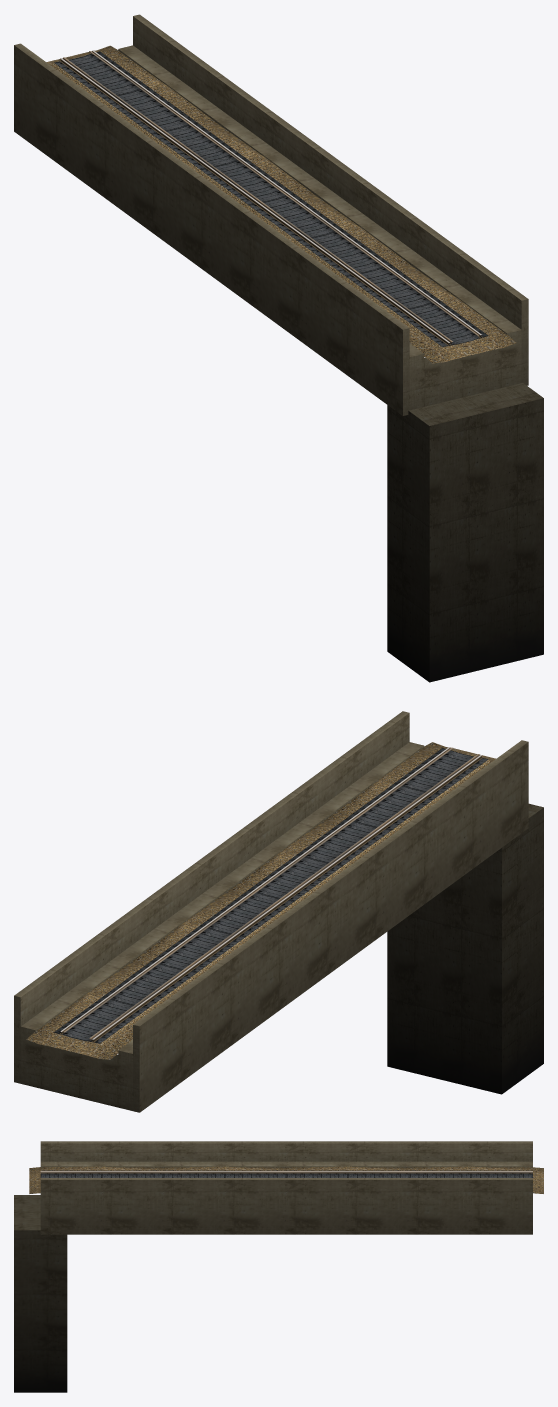
File: HK_1RAIL_KOUKA100.glb
3 renders of one model, top to bottom at view 1: azimuth 30°, elevation 25°; view 2: azimuth 150°, elevation 25°; view 3: azimuth 270°, elevation 25°, orthographic. The views are drawn at different scales.
Parts seen in each view (by area): view 1: Jari_All, R000_RG_R, R000_RG_L; view 2: Jari_All, R000_RG_R, R000_RG_L; view 3: Jari_All, R000_RG_R.
Part boxes in pixels (<box>): Jari_All: <box>14,14,543,682</box>; R000_RG_R: <box>63,57,452,343</box>; R000_RG_L: <box>89,51,479,335</box>; Jari_All: <box>14,711,543,1112</box>; R000_RG_R: <box>89,754,479,1040</box>; R000_RG_L: <box>63,747,453,1033</box>; Jari_All: <box>14,1141,543,1392</box>; R000_RG_R: <box>40,1171,532,1172</box>.
Bounding box in the file's own units: 18.66 × 48.06 × 108.
7 materials, 6 textured.
